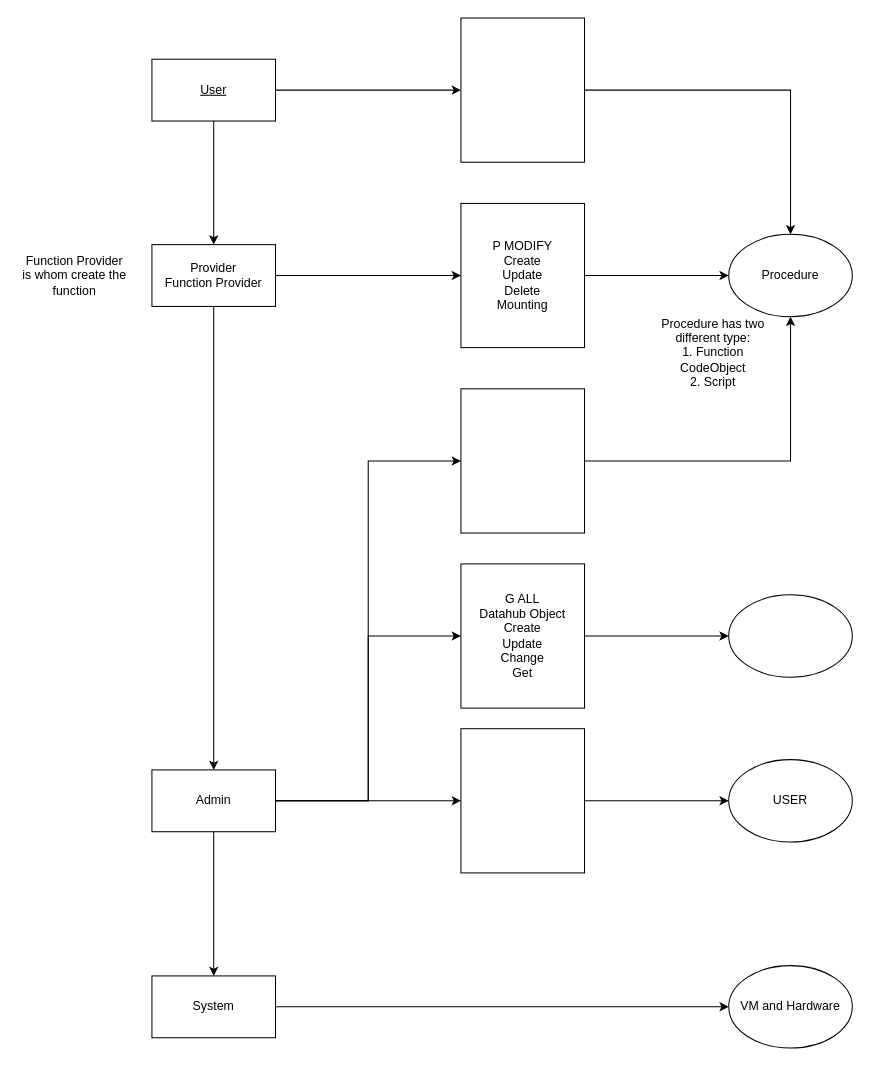
The diagram is 870 pixels wide and 1066 high, and some of its shapes have lost their labels. Here are the shapes that lost their labels. From the top down, the centre of each, then its label:
At point 522,89: "P ACCESS Get Execute".
At point 522,460: "P Admin Change Group ID".
At point 790,635: "DataHub Object".
At point 522,800: "U ALL User CURD".
